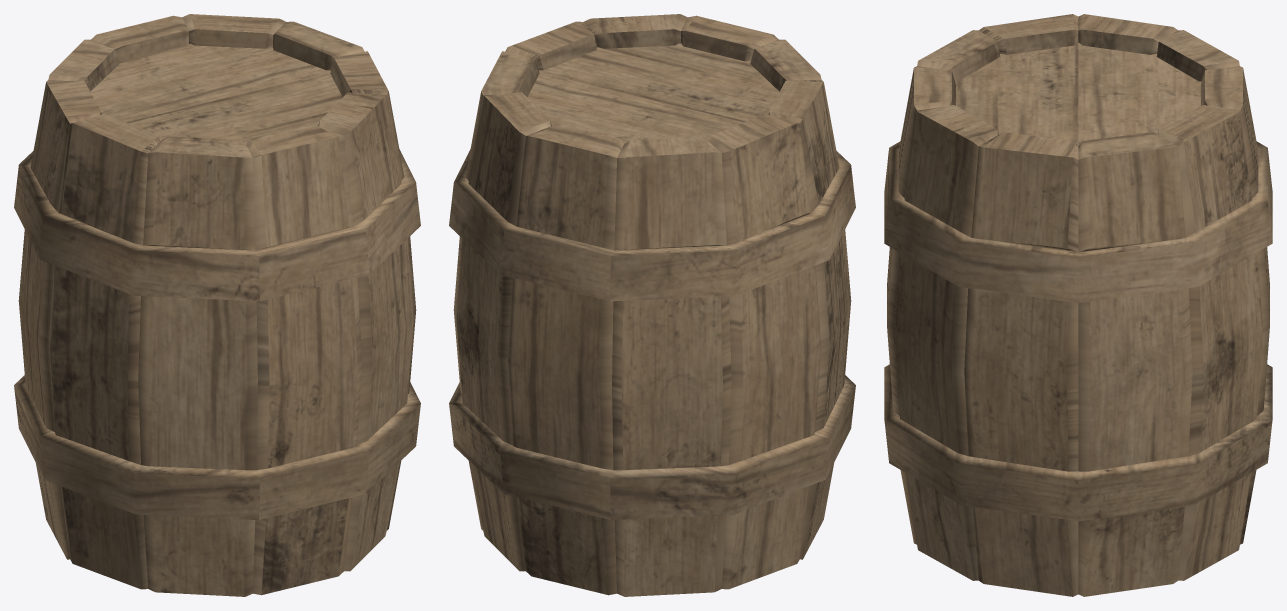
The model's file is Barrel.fbx.
3 views of the same model, side by side, from view 1: azimuth 30°, elevation 25°; view 2: azimuth 150°, elevation 25°; view 3: azimuth 270°, elevation 25° (orthographic).
Parts seen in each view (by area): view 1: BarrelWood15, BarrelWood2, BarrelMetal, BarrelMetal1, BarrelWood1, BarrelWood3, BarrelWood17, BarrelWood18, BarrelWood16, BarrelWood4, BarrelWood, BarrelWood19; view 2: BarrelWood15, BarrelWood4, BarrelWood3, BarrelMetal, BarrelMetal1, BarrelWood18, BarrelWood17, BarrelWood1, BarrelWood, BarrelWood19, BarrelWood2, BarrelWood16; view 3: BarrelWood15, BarrelWood, BarrelWood1, BarrelMetal, BarrelMetal1, BarrelWood17, BarrelWood18, BarrelWood4, BarrelWood3, BarrelWood2, BarrelWood16, BarrelWood19.
Part boxes in pixels (x1,y1,x2,y2): BarrelWood15: (48, 14, 416, 595); BarrelWood2: (138, 136, 257, 596); BarrelMetal: (14, 149, 420, 301); BarrelMetal1: (14, 375, 420, 519); BarrelWood1: (318, 92, 413, 571); BarrelWood3: (18, 80, 101, 559); BarrelWood17: (90, 47, 330, 122); BarrelWood18: (126, 72, 342, 139); BarrelWood16: (90, 43, 271, 91); BarrelWood4: (91, 15, 188, 61); BarrelWood: (273, 21, 364, 70); BarrelWood19: (219, 112, 327, 143); BarrelWood15: (456, 15, 851, 596); BarrelWood4: (507, 123, 623, 595); BarrelWood3: (708, 114, 821, 589); BarrelMetal: (449, 149, 855, 301); BarrelMetal1: (449, 375, 855, 519); BarrelWood18: (539, 47, 779, 122); BarrelWood17: (527, 72, 743, 139); BarrelWood1: (583, 14, 687, 48); BarrelWood: (453, 51, 539, 530); BarrelWood19: (598, 43, 779, 91); BarrelWood2: (750, 39, 821, 91); BarrelWood16: (542, 112, 650, 143); BarrelWood15: (887, 14, 1263, 596); BarrelWood: (1078, 132, 1192, 596); BarrelWood1: (893, 105, 998, 580); BarrelMetal: (884, 141, 1272, 303); BarrelMetal1: (884, 364, 1272, 521); BarrelWood17: (1078, 43, 1158, 145); BarrelWood18: (998, 43, 1078, 144); BarrelWood4: (1201, 66, 1269, 544); BarrelWood3: (1078, 14, 1177, 54); BarrelWood2: (917, 30, 999, 81); BarrelWood16: (1158, 58, 1201, 129); BarrelWood19: (955, 58, 998, 129).
Bounding box in the file's own units: 0.6905 × 0.8282 × 0.6567.
Materials: 1 (1 with a texture image).
